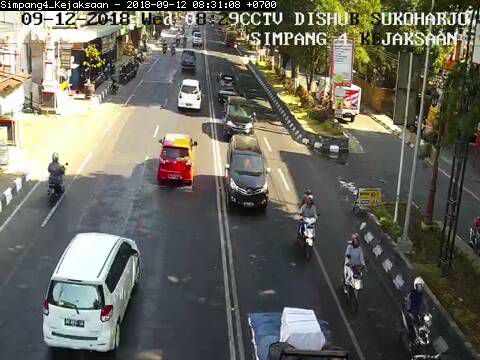motor: (341, 229, 370, 315), (401, 275, 433, 352), (297, 188, 322, 262)
